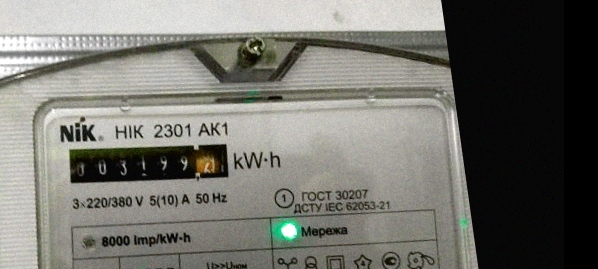0: (71, 158, 87, 178), (94, 156, 108, 176)
1: (136, 151, 148, 171)
3: (116, 157, 127, 177)
6: (200, 159, 212, 176)
9: (177, 153, 189, 173), (156, 152, 168, 171)
screen: (58, 122, 238, 206)
